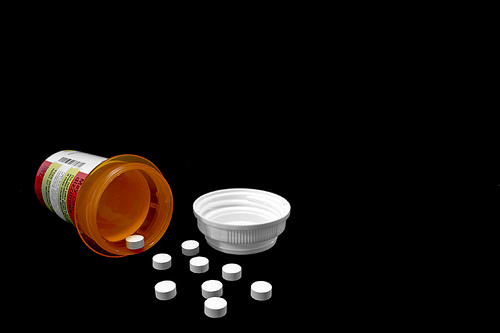pill bottle: (34, 147, 175, 261)
